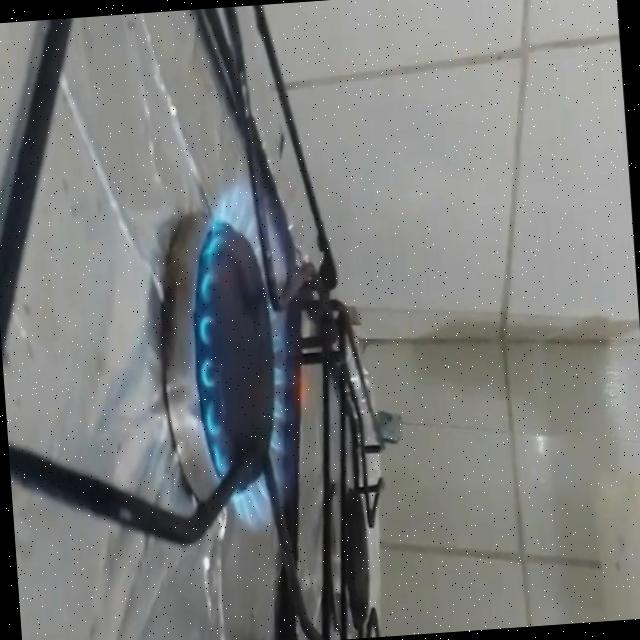fire: (173, 161, 330, 537)
